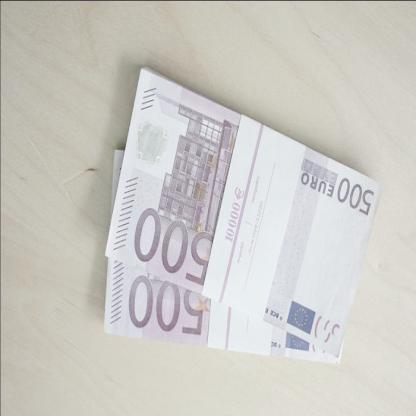euro_banknote: (94, 120, 388, 306), (102, 275, 348, 349)
